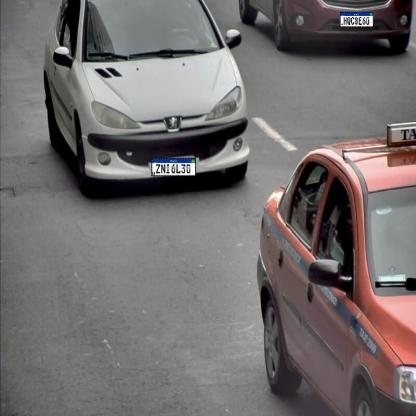PlacaM: (151, 158, 196, 176), (340, 12, 373, 27)
